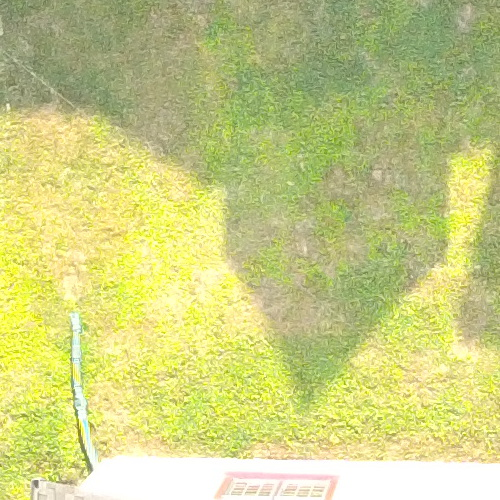gutter: (49, 298, 117, 471)
no larvae: (47, 296, 115, 469)
